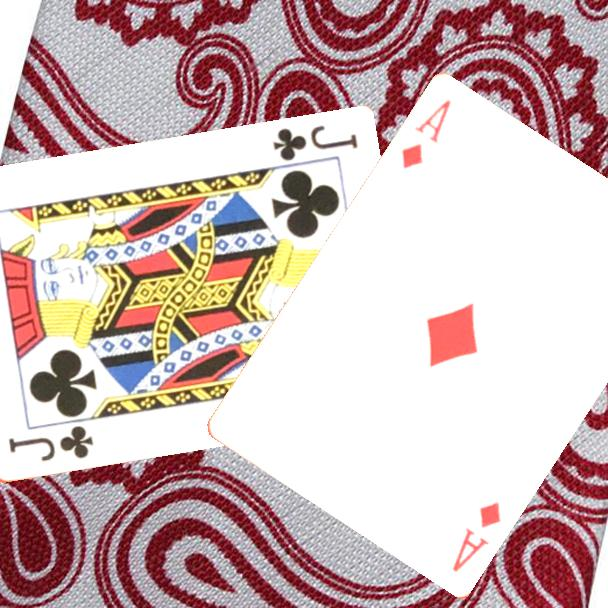c11: (5, 422, 96, 465), (269, 122, 360, 164)
d01: (448, 498, 504, 576), (398, 96, 454, 173)
